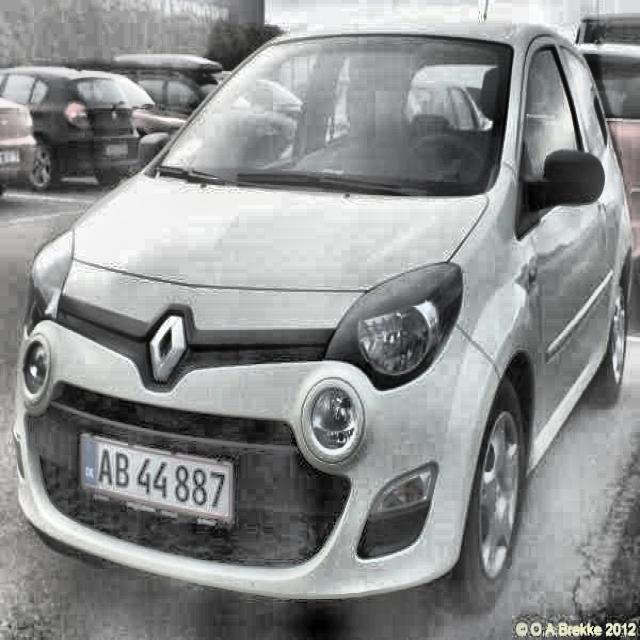license_plate: (84, 446, 230, 516)
